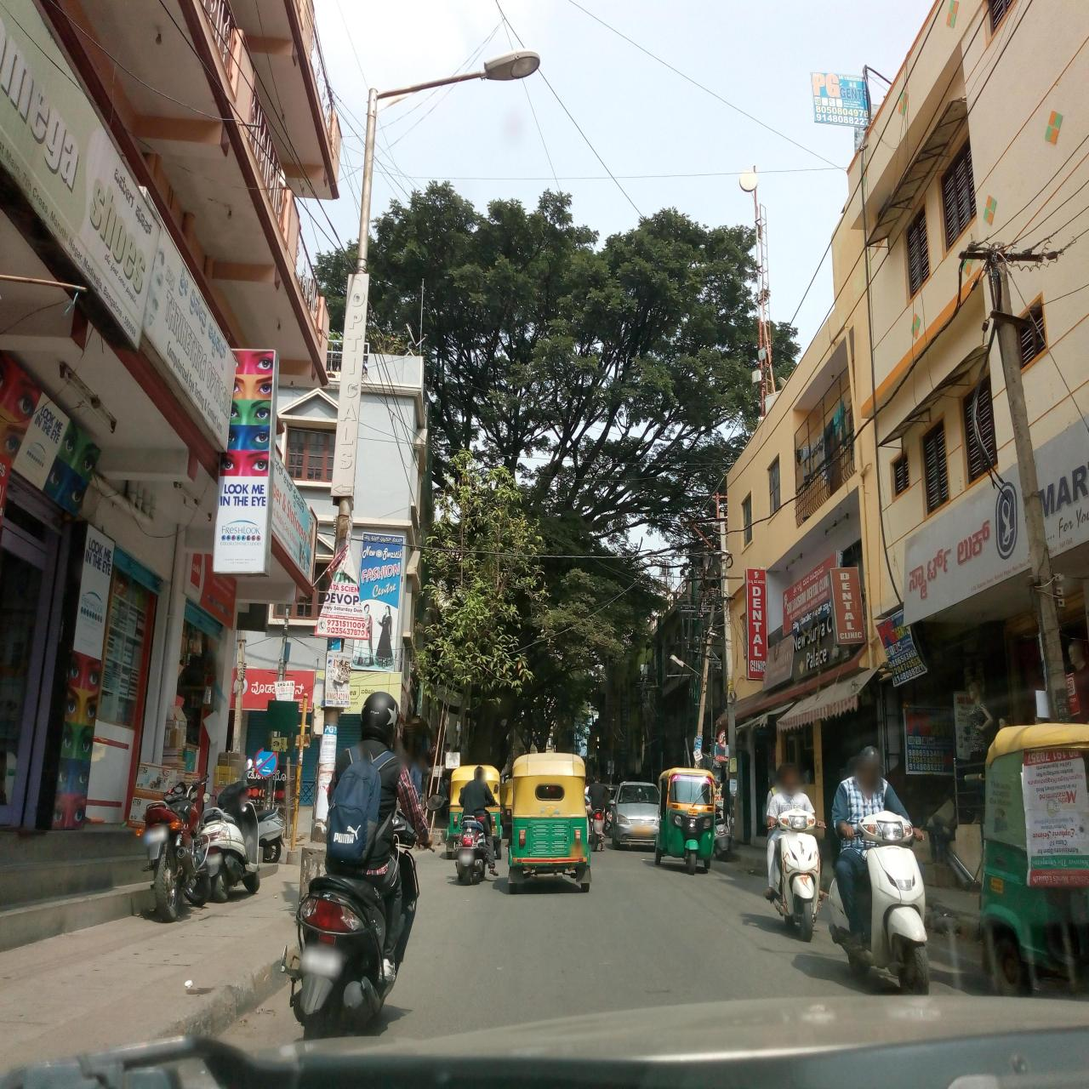truck: (499, 746, 596, 895)
